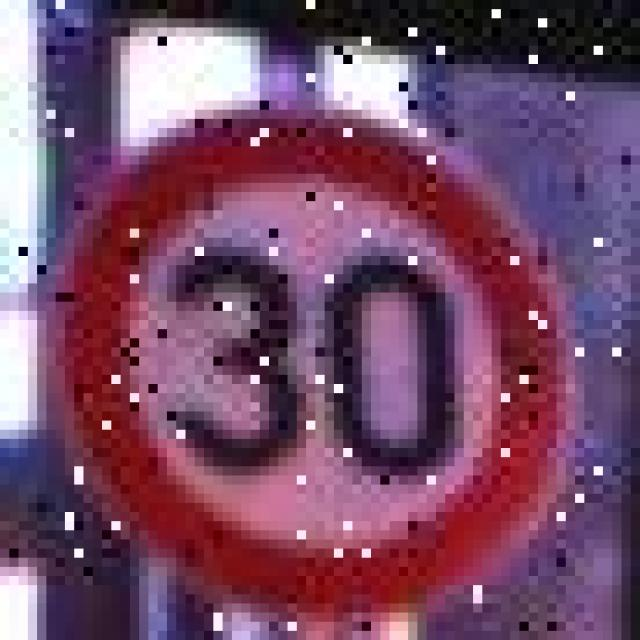speed limit 30: (54, 107, 573, 616)
